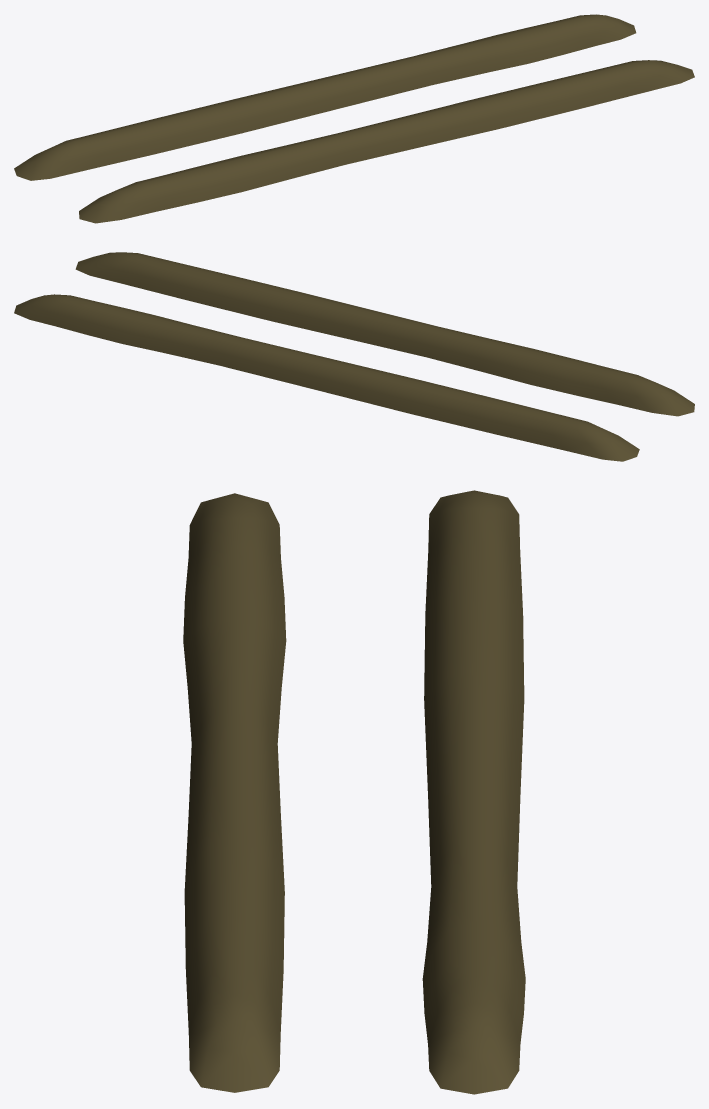
The model's file is quaternius-real-time-strategy-farm-first-age-level-1.glb.
3 views of the same model, one above another, from view 1: azimuth 30°, elevation 25°; view 2: azimuth 150°, elevation 25°; view 3: azimuth 270°, elevation 25° (orthographic). The views are drawn at different scales.
Parts seen in each view (by area): view 1: Farm_FirstAge_Level1; view 2: Farm_FirstAge_Level1; view 3: Farm_FirstAge_Level1.
Boxes of the visible parts, box(x1,y1,x2,y2) form: Farm_FirstAge_Level1: box(14, 14, 694, 223); Farm_FirstAge_Level1: box(14, 252, 694, 461); Farm_FirstAge_Level1: box(183, 490, 525, 1094).
Bounding box in the file's own units: 1.77 × 0.0563 × 0.4246.
